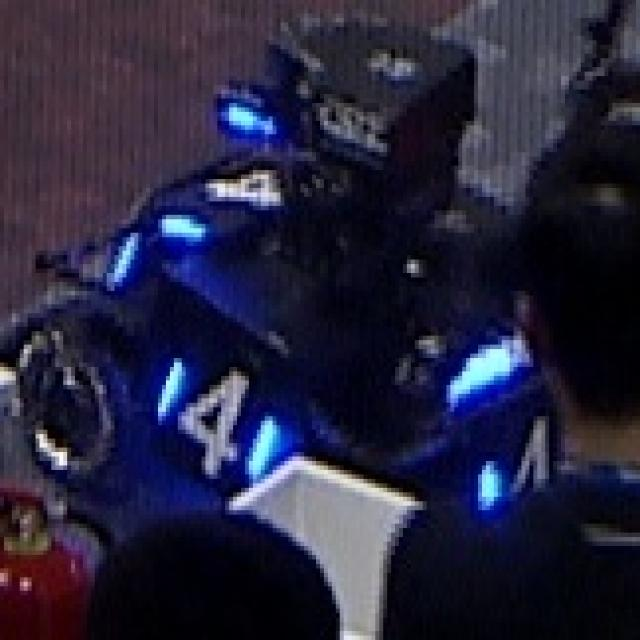B4: (144, 340, 294, 475), (150, 148, 281, 255), (464, 401, 559, 522)
